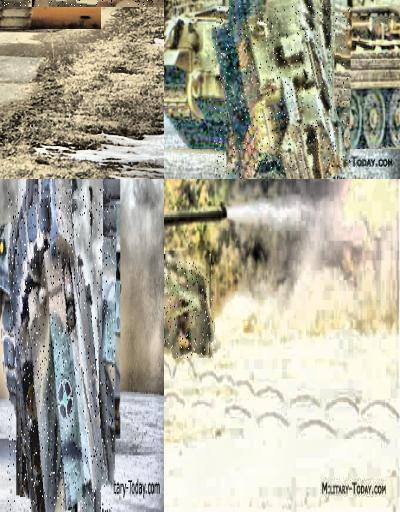tanks: (9, 190, 116, 512), (213, 7, 351, 180), (165, 263, 215, 359), (165, 207, 228, 226)
